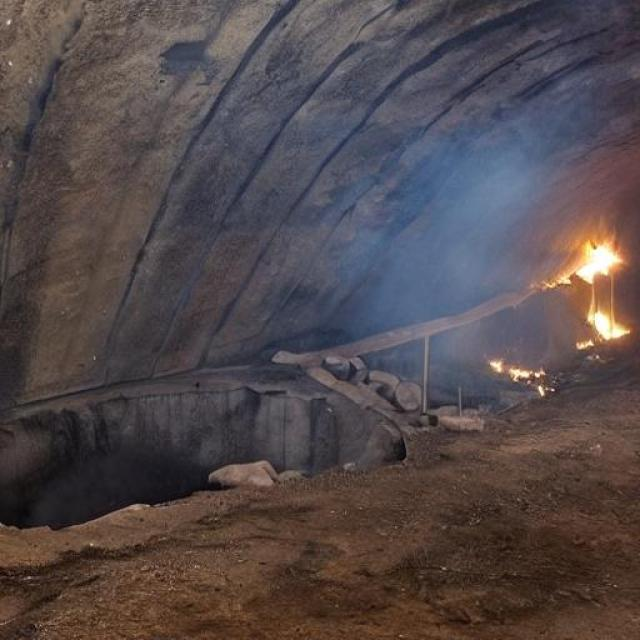Fire: (562, 218, 638, 354), (482, 357, 554, 397)
Smoke: (396, 136, 535, 354)
